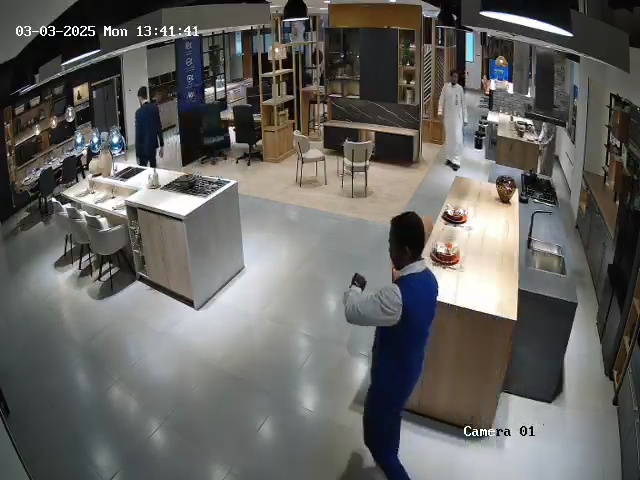employee: (342, 210, 439, 480), (134, 86, 164, 169)
male: (437, 69, 468, 171)
